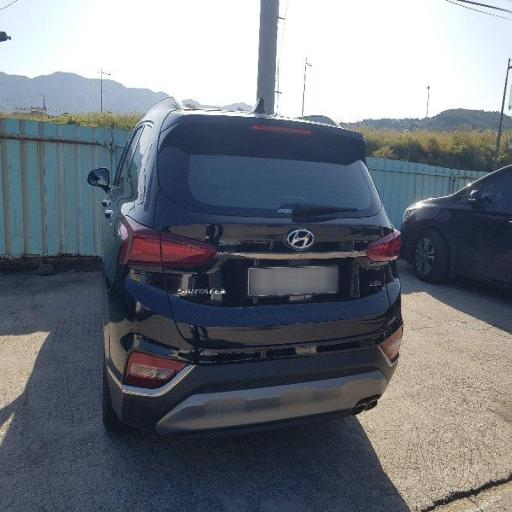scratch: (166, 229, 362, 368)
